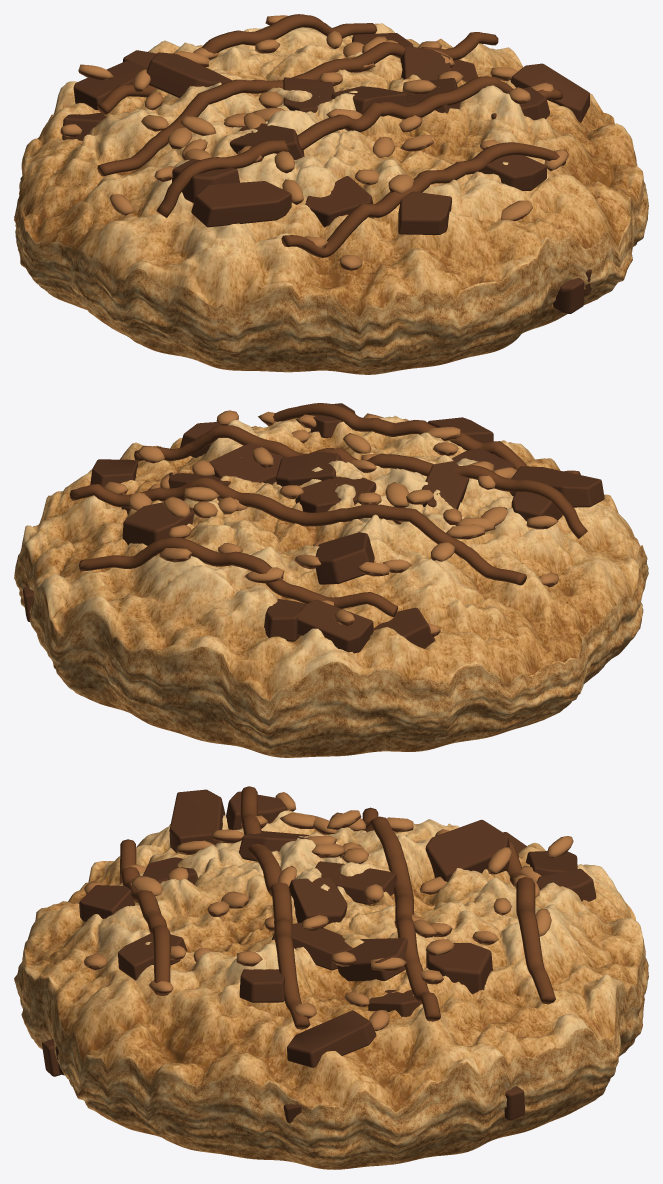
Rendered from tem_nutty-crunch.glb.
3 renders of one model, top to bottom at view 1: azimuth 30°, elevation 25°; view 2: azimuth 150°, elevation 25°; view 3: azimuth 270°, elevation 25°, orthographic. The views are drawn at different scales.
Visible parts, largest first — view 1: Baked porous crumb, White chocolate, Pistachio cream, Pistachio kernel 0; view 2: Baked porous crumb, White chocolate, Pistachio cream, Pistachio kernel 0; view 3: Baked porous crumb, White chocolate, Pistachio cream, Pistachio kernel 0.
Part boxes in pixels (box(x1,y1,x2,y2)): Baked porous crumb: box(14, 23, 648, 374); White chocolate: box(62, 33, 591, 313); Pistachio cream: box(97, 14, 565, 257); Pistachio kernel 0: box(60, 15, 568, 270); Baked porous crumb: box(14, 415, 648, 757); White chocolate: box(23, 403, 604, 653); Pistachio cream: box(70, 403, 587, 616); Pistachio kernel 0: box(104, 410, 559, 636); Baked porous crumb: box(14, 810, 648, 1169); White chocolate: box(42, 789, 596, 1123); Pistachio cream: box(119, 786, 555, 1029); Pistachio kernel 0: box(84, 792, 573, 1030).
Size of the model in its own units: 0.093 by 0.0284 by 0.0903.
6 materials, 2 textured.
